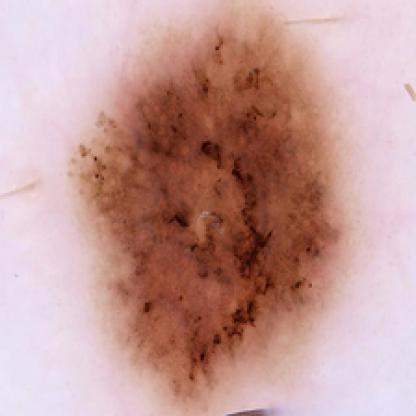benign: (72, 22, 346, 388)
